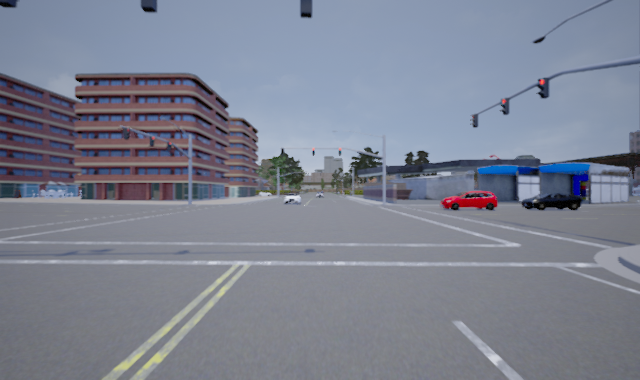vehicle: (441, 190, 497, 210), (520, 192, 582, 209), (283, 192, 301, 205)
